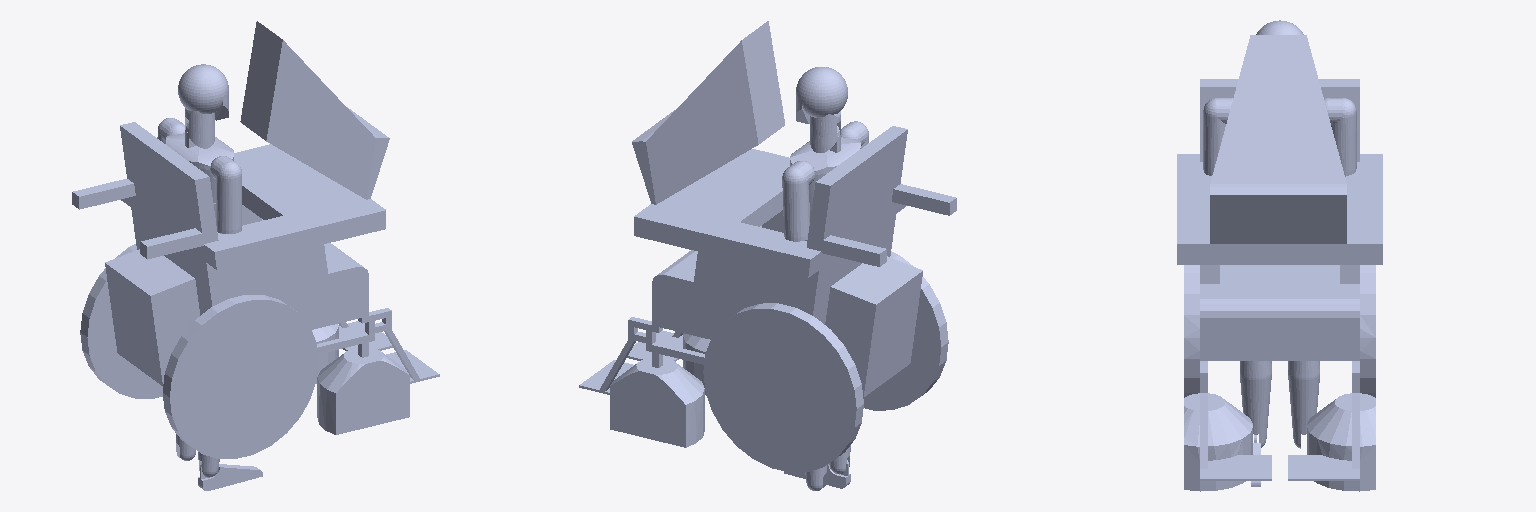
The robot description file, URDF, robot "wheelchair_henry":
<robot
  name="wheelchair_henry">
  <link
    name="wheelchair/base_link">
    <inertial>
      <origin
        xyz="0.53211 -9.4007E-05 0.52163"
        rpy="0 0 0" />
      <mass
        value="272.65" />
      <inertia
        ixx="34.793"
        ixy="-0.011261"
        ixz="-5.7617"
        iyy="44.037"
        iyz="-0.013729"
        izz="36.587" />
    </inertial>
    <visual>
      <origin
        xyz="0 0 0"
        rpy="0 0 0" />
      <geometry>
        <mesh
          filename="package://hrl_base_selection/urdf/wheelchair_henry/meshes/base_link.STL" />
      </geometry>
      <material
        name="">
        <color
          rgba="0.79216 0.81961 0.93333 1" />
      </material>
    </visual>
    <collision>
      <origin
        xyz="0 0 0"
        rpy="0 0 0" />
      <geometry>
        <mesh
          filename="package://wheelchair_henry/meshes/base_link.STL" />
      </geometry>
    </collision>
  </link>
  <link
    name="wheelchair/neck_base_link">
  </link>
  <joint
    name="wheelchair/origin_to_neck_base_joint"
    type="fixed">
    <origin
      xyz="0.332 0 1.25"
      rpy="1.570795 1.570795 0" />
    <parent
      link="wheelchair/base_link" />
    <child
      link="wheelchair/neck_base_link" />
  </joint>
  <link
    name="wheelchair/neck_twist_link">
  </link>
  <joint
    name="wheelchair/neck_twist_joint"
    type="revolute">
    <origin
      xyz="0.0 0.0 0"
      rpy="0. 0. 0." />
    <parent
      link="wheelchair/neck_base_link" />
    <child
      link="wheelchair/neck_twist_link" />
    <axis
      xyz="1 0 0" />
    <limit
      lower="-2"
      upper="2"
      effort="0"
      velocity="0" />
  </joint>
  <link
    name="wheelchair/neck_tilt_link">
  </link>
  <joint
    name="wheelchair/neck_tilt_joint"
    type="revolute">
    <origin
      xyz="0.0 0.0 0"
      rpy="0. 0. 0." />
    <parent
      link="wheelchair/neck_twist_link" />
    <child
      link="wheelchair/neck_tilt_link" />
    <axis
      xyz="0 0 -1" />
    <limit
      lower="-2"
      upper="2"
      effort="0"
      velocity="0" />
  </joint>
  <link
    name="wheelchair/neck_link">
    <visual>
      <origin
        xyz="0 0 0"
        rpy="0 0 0" />
      <geometry>
        <mesh
          filename="package://hrl_base_selection/urdf/bed_and_environment_henry/meshes/neck_link.STL" />
      </geometry>
      <material
        name="">
        <color
          rgba="0.792156862745098 0.819607843137255 0.933333333333333 1" />
      </material>
    </visual>
    <collision>
      <origin
        xyz="0 0 0"
        rpy="0 0 0" />
      <geometry>
        <mesh
          filename="package://hrl_base_selection/urdf/bed_and_environment_henry/meshes/neck_link.STL" />
      </geometry>
    </collision>
  </link>
  <joint
    name="wheelchair/neck_to_neck_top_joint"
    type="fixed">
    <origin
      xyz="-0.07239 0 0"
      rpy="0 0 0" />
    <parent
      link="wheelchair/neck_tilt_link" />
    <child
      link="wheelchair/neck_link" />
  </joint>
  <link
    name="wheelchair/neck_top_rotated_link">
  </link>
  <joint
    name="wheelchair/neck_rotation_fixed_joint"
    type="fixed">
    <origin
      xyz="0 0 0"
      rpy="-1.570796 0 1.570796" />
    <parent
      link="wheelchair/neck_link" />
    <child
      link="wheelchair/neck_top_rotated_link" />
    <axis
      xyz="0 0 1" />
    <limit
      lower="-2"
      upper="2"
      effort="0"
      velocity="0" />
  </joint>
  <link
    name="wheelchair/head_roty_link">
  </link>
  <joint
    name="wheelchair/neck_head_roty_joint"
    type="revolute">
    <origin
      xyz="0.0154 0 0.07779"
      rpy="0 0 0" />
    <parent
      link="wheelchair/neck_top_rotated_link" />
    <child
      link="wheelchair/head_roty_link" />
    <axis
      xyz="0 1 0" />
    <limit
      lower="-2"
      upper="2"
      effort="0"
      velocity="0" />
  </joint>
  <link
    name="wheelchair/head_rotz_link">
  </link>
  <joint
    name="wheelchair/neck_head_rotz_joint"
    type="revolute">
    <origin
      xyz="0 0 0"
      rpy="0 0 0" />
    <parent
      link="wheelchair/head_roty_link" />
    <child
      link="wheelchair/head_rotz_link" />
    <axis
      xyz="0 0 1" />
    <limit
      lower="-2"
      upper="2"
      effort="0"
      velocity="0" />
  </joint>
  <link
    name="wheelchair/head_link">
    <visual>
      <origin
        xyz="0 0 0"
        rpy="0 0 0" />
      <geometry>
        <mesh
          filename="package://hrl_base_selection/urdf/bed_and_environment_henry/meshes/head_link.STL" />
      </geometry>
      <material
        name="">
        <color
          rgba="0.792156862745098 0.819607843137255 0.933333333333333 1" />
      </material>
    </visual>
    <collision>
      <origin
        xyz="0 0 0"
        rpy="0 0 0" />
      <geometry>
        <mesh
          filename="package://hrl_base_selection/urdf/bed_and_environment_henry/meshes/head_link.STL" />
      </geometry>
    </collision>
  </link>
  <joint
    name="wheelchair/neck_head_rotx_joint"
    type="revolute">
    <origin
      xyz="0 0 0"
      rpy="0 0 0" />
    <parent
      link="wheelchair/head_rotz_link" />
    <child
      link="wheelchair/head_link" />
    <axis
      xyz="1 0 0" />
    <limit
      lower="-2"
      upper="2"
      effort="0"
      velocity="0" />
  </joint>
  <link
    name="wheelchair/upper_body_link">
    <visual>
      <origin
        xyz="0 0 0"
        rpy="0 0 0" />
      <geometry>
        <mesh
          filename="package://hrl_base_selection/urdf/bed_and_environment_henry/meshes/upper_body_link.STL" />
      </geometry>
      <material
        name="">
        <color
          rgba="0.792156862745098 0.819607843137255 0.933333333333333 1" />
      </material>
    </visual>
    <collision>
      <origin
        xyz="0 0 0"
        rpy="0 0 0" />
      <geometry>
        <mesh
          filename="package://hrl_base_selection/urdf/bed_and_environment_henry/meshes/upper_body_link.STL" />
      </geometry>
    </collision>
  </link>
  <joint
    name="wheelchair/neck_body_joint"
    type="revolute">
    <origin
      xyz="0.00 0 0"
      rpy="0 0 0" />
    <parent
      link="wheelchair/neck_base_link" />
    <child
      link="wheelchair/upper_body_link" />
    <axis
      xyz="0 0 -1" />
    <limit
      lower="-2"
      upper="2"
      effort="0"
      velocity="0" />
  </joint>
  <link
    name="wheelchair/mid_body_link">
    <visual>
      <origin
        xyz="0 0 0"
        rpy="0 0 0" />
      <geometry>
        <mesh
          filename="package://hrl_base_selection/urdf/bed_and_environment_henry/meshes/mid_body_link.STL" />
      </geometry>
      <material
        name="">
        <color
          rgba="0.792156862745098 0.819607843137255 0.933333333333333 1" />
      </material>
    </visual>
    <collision>
      <origin
        xyz="0 0 0"
        rpy="0 0 0" />
      <geometry>
        <mesh
          filename="package://hrl_base_selection/urdf/bed_and_environment_henry/meshes/mid_body_link.STL" />
      </geometry>
    </collision>
  </link>
  <joint
    name="wheelchair/upper_mid_body_joint"
    type="revolute">
    <origin
      xyz="0.35052 0 0"
      rpy="0 0 0" />
    <parent
      link="wheelchair/upper_body_link" />
    <child
      link="wheelchair/mid_body_link" />
    <axis
      xyz="0 0 1" />
    <limit
      lower="-2"
      upper="2"
      effort="0"
      velocity="0" />
  </joint>
  <link
    name="wheelchair/lower_body_link">
    <visual>
      <origin
        xyz="0 0 0"
        rpy="0 0 0" />
      <geometry>
        <mesh
          filename="package://hrl_base_selection/urdf/bed_and_environment_henry/meshes/lower_body_link.STL" />
      </geometry>
      <material
        name="">
        <color
          rgba="0.792156862745098 0.819607843137255 0.933333333333333 1" />
      </material>
    </visual>
    <collision>
      <origin
        xyz="0 0 0"
        rpy="0 0 0" />
      <geometry>
        <mesh
          filename="package://hrl_base_selection/urdf/bed_and_environment_henry/meshes/lower_body_link.STL" />
      </geometry>
    </collision>
  </link>
  <joint
    name="wheelchair/mid_lower_body_joint"
    type="revolute">
    <origin
      xyz="0.15113 0 0"
      rpy="0 0 0" />
    <parent
      link="wheelchair/mid_body_link" />
    <child
      link="wheelchair/lower_body_link" />
    <axis
      xyz="0 0 1" />
    <limit
      lower="-2"
      upper="2"
      effort="0"
      velocity="0" />
  </joint>
  <link
    name="wheelchair/quad_left_link">
    <visual>
      <origin
        xyz="0 0 0"
        rpy="0 0 0" />
      <geometry>
        <mesh
          filename="package://hrl_base_selection/urdf/bed_and_environment_henry/meshes/quad_left_link.STL" />
      </geometry>
      <material
        name="">
        <color
          rgba="0.792156862745098 0.819607843137255 0.933333333333333 1" />
      </material>
    </visual>
    <collision>
      <origin
        xyz="0 0 0"
        rpy="0 0 0" />
      <geometry>
        <mesh
          filename="package://hrl_base_selection/urdf/bed_and_environment_henry/meshes/quad_left_link.STL" />
      </geometry>
    </collision>
  </link>
  <joint
    name="wheelchair/body_quad_left_joint"
    type="revolute">
    <origin
      xyz="0.05207 0 -0.08636"
      rpy="0 0 -.25" />
    <parent
      link="wheelchair/lower_body_link" />
    <child
      link="wheelchair/quad_left_link" />
    <axis
      xyz="0 0 1" />
    <limit
      lower="-3."
      upper="3."
      effort="0"
      velocity="0" />
  </joint>
  <link
    name="wheelchair/calf_left_link">
    <visual>
      <origin
        xyz="0 0 0"
        rpy="0 0 0" />
      <geometry>
        <mesh
          filename="package://hrl_base_selection/urdf/bed_and_environment_henry/meshes/calf_left_link.STL" />
      </geometry>
      <material
        name="">
        <color
          rgba="0.792156862745098 0.819607843137255 0.933333333333333 1" />
      </material>
    </visual>
    <collision>
      <origin
        xyz="0 0 0"
        rpy="0 0 0" />
      <geometry>
        <mesh
          filename="package://hrl_base_selection/urdf/bed_and_environment_henry/meshes/calf_left_link.STL" />
      </geometry>
    </collision>
  </link>
  <joint
    name="wheelchair/quad_calf_left_joint"
    type="revolute">
    <origin
      xyz="0.41218 0.11044 0"
      rpy="3.14159 0 3.43" />
    <parent
      link="wheelchair/quad_left_link" />
    <child
      link="wheelchair/calf_left_link" />
    <axis
      xyz="0 0 1" />
    <limit
      lower="-3."
      upper="3."
      effort="0"
      velocity="0" />
  </joint>
  <link
    name="wheelchair/foot_left_link">
    <visual>
      <origin
        xyz="0 0 0"
        rpy="0 0 0" />
      <geometry>
        <mesh
          filename="package://hrl_base_selection/urdf/bed_and_environment_henry/meshes/foot_left_link.STL" />
      </geometry>
      <material
        name="">
        <color
          rgba="0.792156862745098 0.819607843137255 0.933333333333333 1" />
      </material>
    </visual>
    <collision>
      <origin
        xyz="0 0 0"
        rpy="0 0 0" />
      <geometry>
        <mesh
          filename="package://hrl_base_selection/urdf/bed_and_environment_henry/meshes/foot_left_link.STL" />
      </geometry>
    </collision>
  </link>
  <joint
    name="wheelchair/calf_foot_left_joint"
    type="revolute">
    <origin
      xyz="-0.41279 -0.03188 0"
      rpy="0 0 0.09" />
    <parent
      link="wheelchair/calf_left_link" />
    <child
      link="wheelchair/foot_left_link" />
    <axis
      xyz="0 0 1" />
    <limit
      lower="-3."
      upper="3."
      effort="0"
      velocity="0" />
  </joint>
  <link
    name="wheelchair/quad_right_link">
    <visual>
      <origin
        xyz="0 0 0"
        rpy="0 0 0" />
      <geometry>
        <mesh
          filename="package://hrl_base_selection/urdf/bed_and_environment_henry/meshes/quad_right_link.STL" />
      </geometry>
      <material
        name="">
        <color
          rgba="0.792156862745098 0.819607843137255 0.933333333333333 1" />
      </material>
    </visual>
    <collision>
      <origin
        xyz="0 0 0"
        rpy="0 0 0" />
      <geometry>
        <mesh
          filename="package://hrl_base_selection/urdf/bed_and_environment_henry/meshes/quad_right_link.STL" />
      </geometry>
    </collision>
  </link>
  <joint
    name="wheelchair/body_quad_right_joint"
    type="revolute">
    <origin
      xyz="0.05207 0 0.08636"
      rpy="0 0 -.25" />
    <parent
      link="wheelchair/lower_body_link" />
    <child
      link="wheelchair/quad_right_link" />
    <axis
      xyz="0 0 1" />
    <limit
      lower="-3"
      upper="3"
      effort="0"
      velocity="0" />
  </joint>
  <link
    name="wheelchair/calf_right_link">
    <visual>
      <origin
        xyz="0 0 0"
        rpy="0 0 0" />
      <geometry>
        <mesh
          filename="package://hrl_base_selection/urdf/bed_and_environment_henry/meshes/calf_right_link.STL" />
      </geometry>
      <material
        name="">
        <color
          rgba="0.792156862745098 0.819607843137255 0.933333333333333 1" />
      </material>
    </visual>
    <collision>
      <origin
        xyz="0 0 0"
        rpy="0 0 0" />
      <geometry>
        <mesh
          filename="package://hrl_base_selection/urdf/bed_and_environment_henry/meshes/calf_right_link.STL" />
      </geometry>
    </collision>
  </link>
  <joint
    name="wheelchair/quad_calf_right_joint"
    type="revolute">
    <origin
      xyz="0.41218 0.11044 0"
      rpy="3.14159 0 3.43" />
    <parent
      link="wheelchair/quad_right_link" />
    <child
      link="wheelchair/calf_right_link" />
    <axis
      xyz="0 0 1" />
    <limit
      lower="-3"
      upper="3"
      effort="0"
      velocity="0" />
  </joint>
  <link
    name="wheelchair/foot_right_link">
    <visual>
      <origin
        xyz="0 0 0"
        rpy="0 0 0" />
      <geometry>
        <mesh
          filename="package://hrl_base_selection/urdf/bed_and_environment_henry/meshes/foot_right_link.STL" />
      </geometry>
      <material
        name="">
        <color
          rgba="0.792156862745098 0.819607843137255 0.933333333333333 1" />
      </material>
    </visual>
    <collision>
      <origin
        xyz="0 0 0"
        rpy="0 0 0" />
      <geometry>
        <mesh
          filename="package://hrl_base_selection/urdf/bed_and_environment_henry/meshes/foot_right_link.STL" />
      </geometry>
    </collision>
  </link>
  <joint
    name="wheelchair/calf_foot_right_joint"
    type="revolute">
    <origin
      xyz="-0.41279 -0.03188 0"
      rpy="0 0 0.09" />
    <parent
      link="wheelchair/calf_right_link" />
    <child
      link="wheelchair/foot_right_link" />
    <axis
      xyz="0 0 1" />
    <limit
      lower="-3"
      upper="3"
      effort="0"
      velocity="0" />
  </joint>
  <link
    name="wheelchair/arm_left_link">
    <visual>
      <origin
        xyz="0 0 0"
        rpy="0 0 0" />
      <geometry>
        <mesh
          filename="package://hrl_base_selection/urdf/bed_and_environment_henry/meshes/arm_left_link.STL" />
      </geometry>
      <material
        name="">
        <color
          rgba="0.792156862745098 0.819607843137255 0.933333333333333 1" />
      </material>
    </visual>
    <collision>
      <origin
        xyz="0 0 0"
        rpy="0 0 0" />
      <geometry>
        <mesh
          filename="package://hrl_base_selection/urdf/bed_and_environment_henry/meshes/arm_left_link.STL" />
      </geometry>
    </collision>
  </link>
  <joint
    name="wheelchair/body_arm_left_joint"
    type="revolute">
    <origin
      xyz="0.09652 0 -0.17526"
      rpy="0 0 0" />
    <parent
      link="wheelchair/upper_body_link" />
    <child
      link="wheelchair/arm_left_link" />
    <axis
      xyz="0 0 1" />
    <limit
      lower="-3"
      upper="3"
      effort="0"
      velocity="0" />
  </joint>
  <link
    name="wheelchair/forearm_left_link">
    <visual>
      <origin
        xyz="0 0 0"
        rpy="0 0 0" />
      <geometry>
        <mesh
          filename="package://hrl_base_selection/urdf/bed_and_environment_henry/meshes/forearm_left_link.STL" />
      </geometry>
      <material
        name="">
        <color
          rgba="0.792156862745098 0.819607843137255 0.933333333333333 1" />
      </material>
    </visual>
    <collision>
      <origin
        xyz="0 0 0"
        rpy="0 0 0" />
      <geometry>
        <mesh
          filename="package://hrl_base_selection/urdf/bed_and_environment_henry/meshes/forearm_left_link.STL" />
      </geometry>
    </collision>
  </link>
  <joint
    name="wheelchair/arm_forearm_left_joint"
    type="revolute">
    <origin
      xyz="0.28174 -0.0106 -0.04953"
      rpy="0 0 0" />
    <parent
      link="wheelchair/arm_left_link" />
    <child
      link="wheelchair/forearm_left_link" />
    <axis
      xyz="0 0 1" />
    <limit
      lower="-3"
      upper="3"
      effort="0"
      velocity="0" />
  </joint>
  <link
    name="wheelchair/hand_left_link">
    <visual>
      <origin
        xyz="0 0 0"
        rpy="0 0 0" />
      <geometry>
        <mesh
          filename="package://hrl_base_selection/urdf/bed_and_environment_henry/meshes/hand_left_link.STL" />
      </geometry>
      <material
        name="">
        <color
          rgba="0.792156862745098 0.819607843137255 0.933333333333333 1" />
      </material>
    </visual>
    <collision>
      <origin
        xyz="0 0 0"
        rpy="0 0 0" />
      <geometry>
        <mesh
          filename="package://hrl_base_selection/urdf/bed_and_environment_henry/meshes/hand_left_link.STL" />
      </geometry>
    </collision>
  </link>
  <joint
    name="wheelchair/forearm_hand_left_joint"
    type="revolute">
    <origin
      xyz="0.25146 0 0"
      rpy="0 0 0" />
    <parent
      link="wheelchair/forearm_left_link" />
    <child
      link="wheelchair/hand_left_link" />
    <axis
      xyz="0 0 1" />
    <limit
      lower="-3"
      upper="3"
      effort="0"
      velocity="0" />
  </joint>
  <link
    name="wheelchair/arm_right_link">
    <visual>
      <origin
        xyz="0 0 0"
        rpy="0 0 0" />
      <geometry>
        <mesh
          filename="package://hrl_base_selection/urdf/bed_and_environment_henry/meshes/arm_right_link.STL" />
      </geometry>
      <material
        name="">
        <color
          rgba="0.792156862745098 0.819607843137255 0.933333333333333 1" />
      </material>
    </visual>
    <collision>
      <origin
        xyz="0 0 0"
        rpy="0 0 0" />
      <geometry>
        <mesh
          filename="package://hrl_base_selection/urdf/bed_and_environment_henry/meshes/arm_right_link.STL" />
      </geometry>
    </collision>
  </link>
  <joint
    name="wheelchair/body_arm_right_joint"
    type="revolute">
    <origin
      xyz="0.09652 0 0.17526"
      rpy="0 0 0" />
    <parent
      link="wheelchair/upper_body_link" />
    <child
      link="wheelchair/arm_right_link" />
    <axis
      xyz="0 0 1" />
    <limit
      lower="-3"
      upper="3"
      effort="0"
      velocity="0" />
  </joint>
  <link
    name="wheelchair/forearm_right_link">
    <visual>
      <origin
        xyz="0 0 0"
        rpy="0 0 0" />
      <geometry>
        <mesh
          filename="package://hrl_base_selection/urdf/bed_and_environment_henry/meshes/forearm_right_link.STL" />
      </geometry>
      <material
        name="">
        <color
          rgba="0.792156862745098 0.819607843137255 0.933333333333333 1" />
      </material>
    </visual>
    <collision>
      <origin
        xyz="0 0 0"
        rpy="0 0 0" />
      <geometry>
        <mesh
          filename="package://hrl_base_selection/urdf/bed_and_environment_henry/meshes/forearm_right_link.STL" />
      </geometry>
    </collision>
  </link>
  <joint
    name="wheelchair/arm_forearm_right_joint"
    type="revolute">
    <origin
      xyz="0.28194 0 0.04953"
      rpy="0 0 0" />
    <parent
      link="wheelchair/arm_right_link" />
    <child
      link="wheelchair/forearm_right_link" />
    <axis
      xyz="0 0 1" />
    <limit
      lower="-3"
      upper="3"
      effort="0"
      velocity="0" />
  </joint>
  <link
    name="wheelchair/hand_right_link">
    <visual>
      <origin
        xyz="0 0 0"
        rpy="0 0 0" />
      <geometry>
        <mesh
          filename="package://hrl_base_selection/urdf/bed_and_environment_henry/meshes/hand_right_link.STL" />
      </geometry>
      <material
        name="">
        <color
          rgba="0.792156862745098 0.819607843137255 0.933333333333333 1" />
      </material>
    </visual>
    <collision>
      <origin
        xyz="0 0 0"
        rpy="0 0 0" />
      <geometry>
        <mesh
          filename="package://hrl_base_selection/urdf/bed_and_environment_henry/meshes/hand_right_link.STL" />
      </geometry>
    </collision>
  </link>
  <joint
    name="wheelchair/forearm_hand_right_joint"
    type="revolute">
    <origin
      xyz="0.25146 0 0"
      rpy="0 0 0" />
    <parent
      link="wheelchair/forearm_right_link" />
    <child
      link="wheelchair/hand_right_link" />
    <axis
      xyz="0 0 1" />
    <limit
      lower="-3"
      upper="3"
      effort="0"
      velocity="0" />
  </joint>
</robot>

--- Facts derived from the render (not from the file) ---
The picture shows the robot from 3 angles, left to right: view 1: azimuth 30°, elevation 25°; view 2: azimuth 150°, elevation 25°; view 3: azimuth 270°, elevation 25°; orthographic projection.
Robot: wheelchair_henry — 24 links, 23 joints (20 revolute, 3 fixed); root link wheelchair/base_link; default pose: every joint at zero.
Visible links, largest first — view 1: wheelchair/base_link, wheelchair/head_link, wheelchair/arm_right_link, wheelchair/upper_body_link, wheelchair/foot_right_link, wheelchair/neck_link; view 2: wheelchair/base_link, wheelchair/head_link, wheelchair/arm_left_link, wheelchair/upper_body_link, wheelchair/neck_link; view 3: wheelchair/base_link, wheelchair/calf_left_link, wheelchair/calf_right_link, wheelchair/arm_left_link, wheelchair/arm_right_link.
Boxes of the visible links, left/top/right/bottom form: wheelchair/base_link: left=72, top=21, right=439, bottom=458; wheelchair/head_link: left=178, top=64, right=228, bottom=120; wheelchair/arm_right_link: left=210, top=156, right=241, bottom=233; wheelchair/upper_body_link: left=166, top=122, right=233, bottom=203; wheelchair/foot_right_link: left=198, top=463, right=262, bottom=490; wheelchair/neck_link: left=185, top=108, right=214, bottom=148; wheelchair/base_link: left=579, top=21, right=956, bottom=472; wheelchair/head_link: left=796, top=67, right=847, bottom=123; wheelchair/arm_left_link: left=782, top=161, right=814, bottom=241; wheelchair/upper_body_link: left=790, top=126, right=860, bottom=209; wheelchair/neck_link: left=810, top=111, right=840, bottom=152; wheelchair/base_link: left=1177, top=35, right=1382, bottom=491; wheelchair/calf_left_link: left=1288, top=361, right=1319, bottom=448; wheelchair/calf_right_link: left=1240, top=361, right=1271, bottom=447; wheelchair/arm_left_link: left=1324, top=98, right=1356, bottom=176; wheelchair/arm_right_link: left=1203, top=98, right=1232, bottom=175.
Bounding box of the posed robot: 1.29 × 0.74 × 1.83 m (x, y, z).
Meshes: 18 distinct files referenced, 16 mesh visuals loaded (16 binary STL); not drawn: 2 (reference not matched to a file when rendering).
